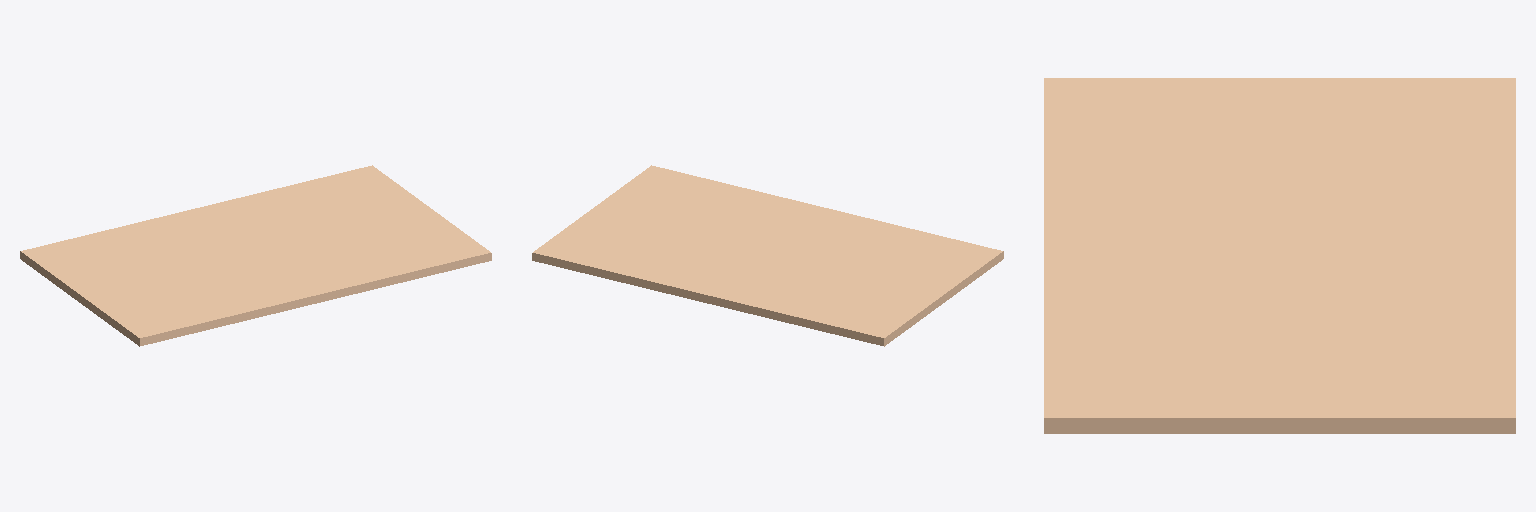
URDF robot description (myfirst):
<?xml version="1.0"?>
 <robot name="myfirst">
   <material name="PeachPuff">
     <color rgba="1 0.8549 0.72549 1"/>
   </material>
   <link name="right_leg">
     <visual>
       <geometry>
         <box size="1.79 1.05 0.04"/>
       </geometry>
       <material name="PeachPuff"/>
     </visual>
     <collision>
       <geometry>
         <box size="1.79 1.05 0.04"/>
       </geometry>
     </collision>
     <inertial>
       <mass value="1"/>
       <inertia ixx="1.0" ixy="0.0" ixz="0.0" iyy="1.0" iyz="0.0" izz="1.0"/>
     </inertial>
   </link>
 </robot>

--- Facts derived from the render (not from the file) ---
The picture shows the robot from 3 angles, left to right: view 1: azimuth 30°, elevation 25°; view 2: azimuth 150°, elevation 25°; view 3: azimuth 270°, elevation 25°; orthographic projection.
Model myfirst with 1 links and 0 joints (none), rooted at right_leg, posed every joint at zero.
Visible links, largest first — view 1: right_leg; view 2: right_leg; view 3: right_leg.
Boxes of the visible links, x1,y1,x2,y2 form: right_leg: (20,165,491,346); right_leg: (532,165,1003,346); right_leg: (1044,78,1515,433).
Size in the robot's own frame: 1.79 by 1.05 by 0.04 metres.
Geometry: primitives only (box / cylinder / sphere), no mesh files.
